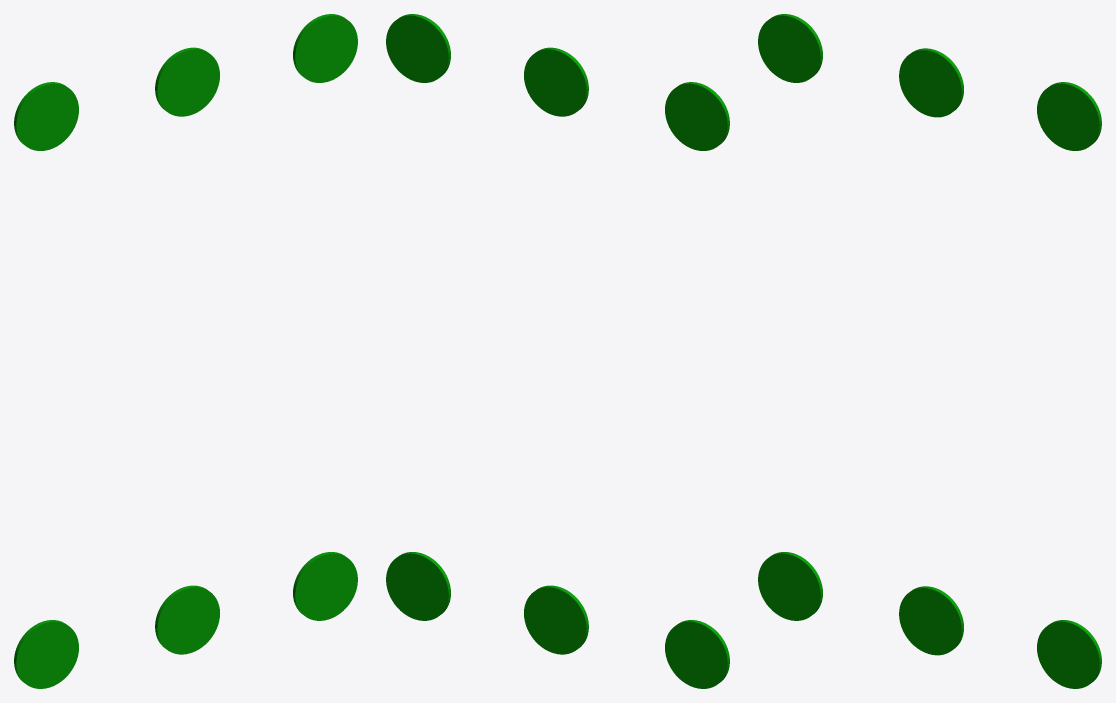
File: regional_membrane_settings_membrane.glb
3 renders of one model, left to right at view 1: azimuth 30°, elevation 25°; view 2: azimuth 150°, elevation 25°; view 3: azimuth 330°, elevation 25°, orthographic.
Parts seen in each view (by area): view 1: world; view 2: world; view 3: world.
Part boxes in pixels (<box>): world: <box>14,14,357,688</box>; world: <box>386,14,729,688</box>; world: <box>758,14,1101,688</box>.
Size of the model in its own units: 0.8284 by 1.4 by 0.01.
